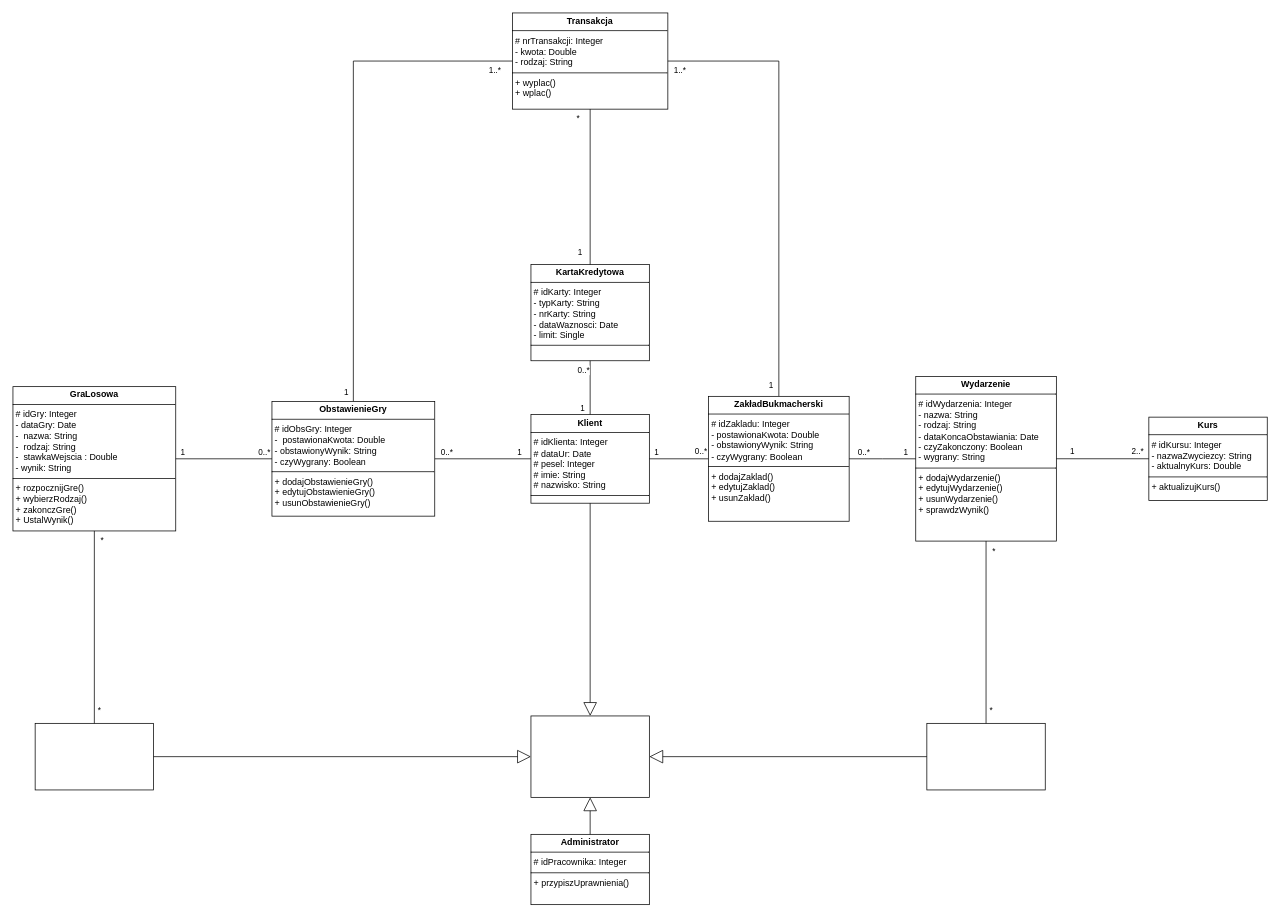
This 1280x918 diagram has some shape labels left out. The centre of each missing label's shape, as x and y in pixels:
Krupier # pesel: Integer # idPracownika: Integer: pixel 94 756
Trader # pesel: Integer # idPracownika: Integer: pixel 985 756
Użytkownik # eMail: String # haslo: String # rodzaj: String - login: String: pixel 589 756
